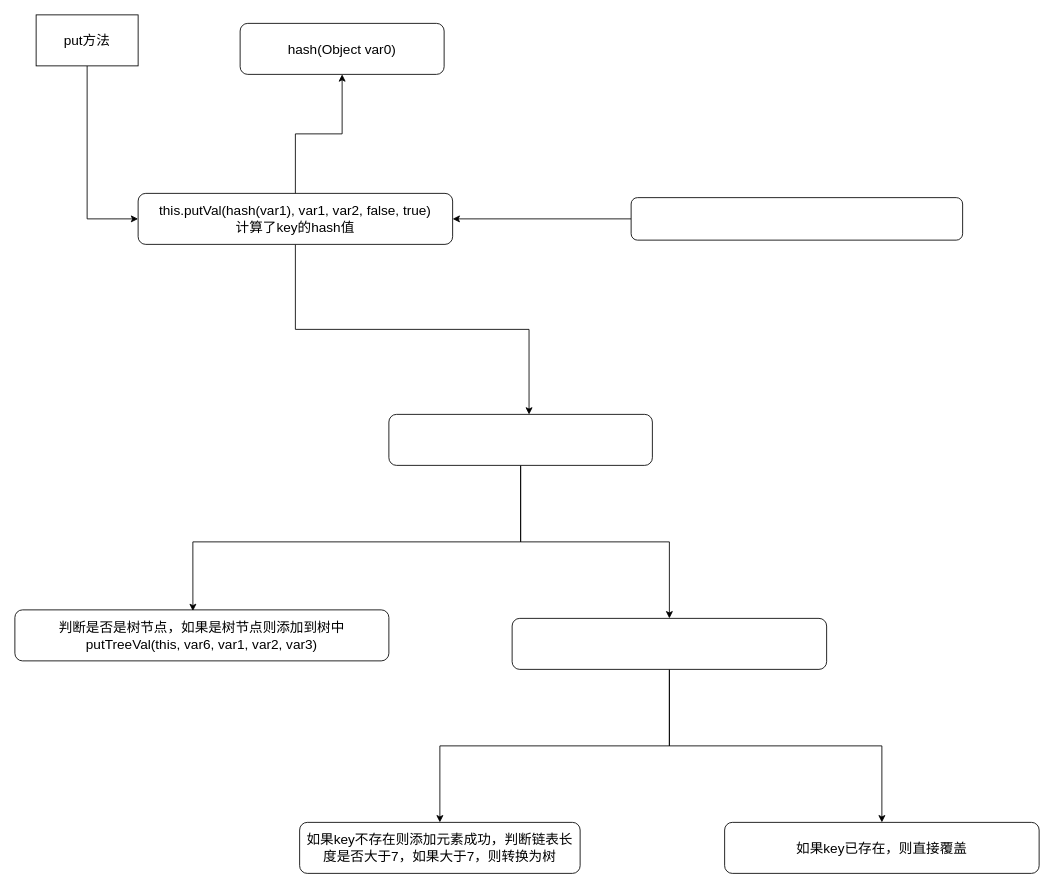
The diagram is 1054 pixels wide and 888 high, and some of its shapes have lost their labels. Here are the shapes that lost their labels. From the top down, the box of each, then its label:
(630, 197, 963, 240): 如果当前数组为空或者数组长度为0.调用resize方法，
(388, 414, 652, 465): 如果当前位置为空，则添加数据成功
(511, 618, 827, 669): 如果不是树节点，则遍历链表
